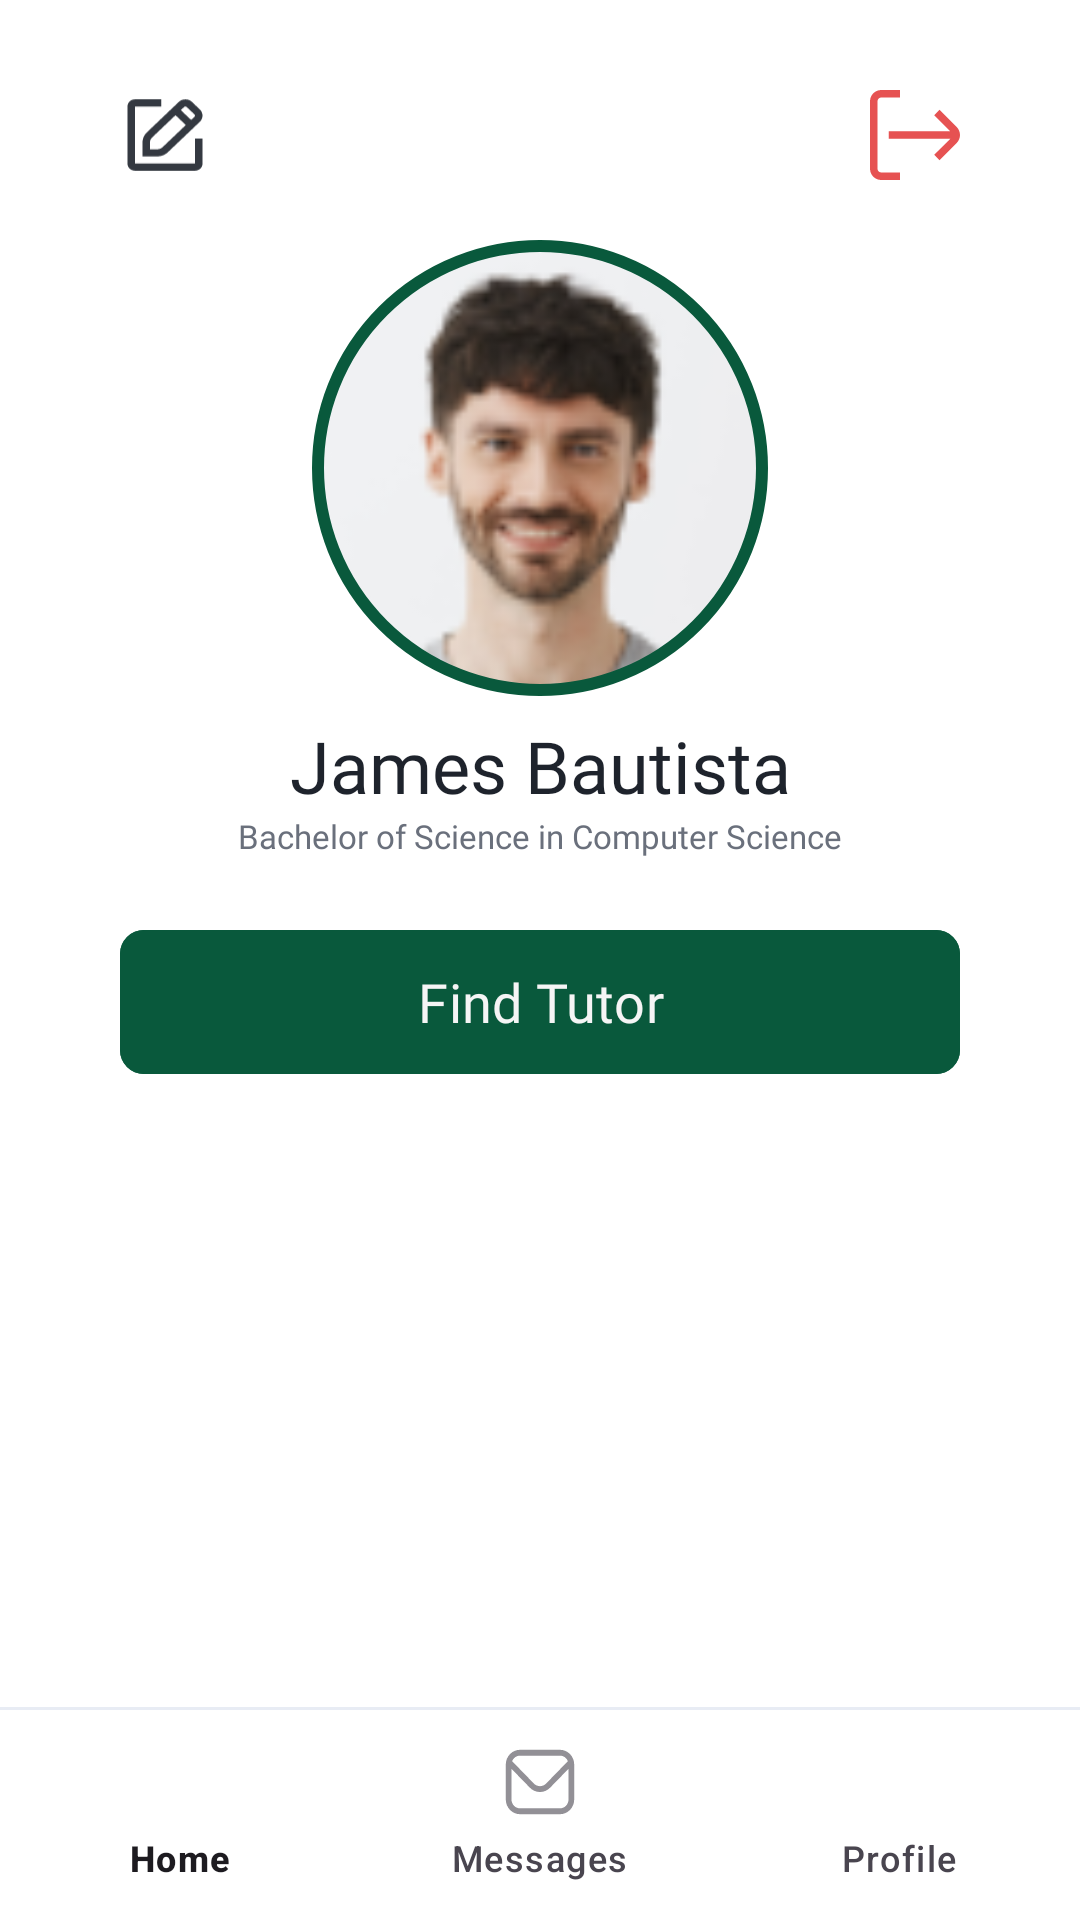

Where icons sit on this 1080×1920 app screen, as (x1, y1, x2, y2):
edit: (127, 99, 203, 171)
log out: (870, 90, 960, 180)
